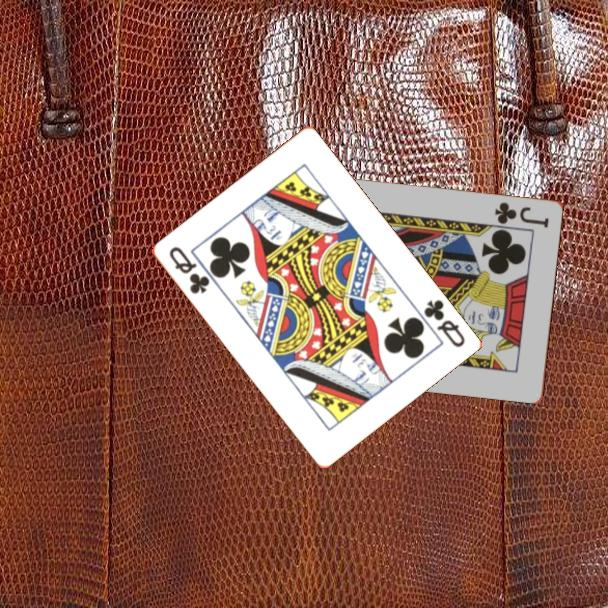c11: (492, 198, 552, 230)
c12: (420, 296, 468, 350), (165, 243, 212, 297)
